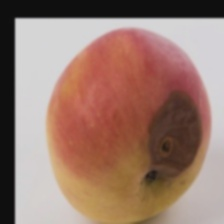apple: (41, 21, 202, 182)
